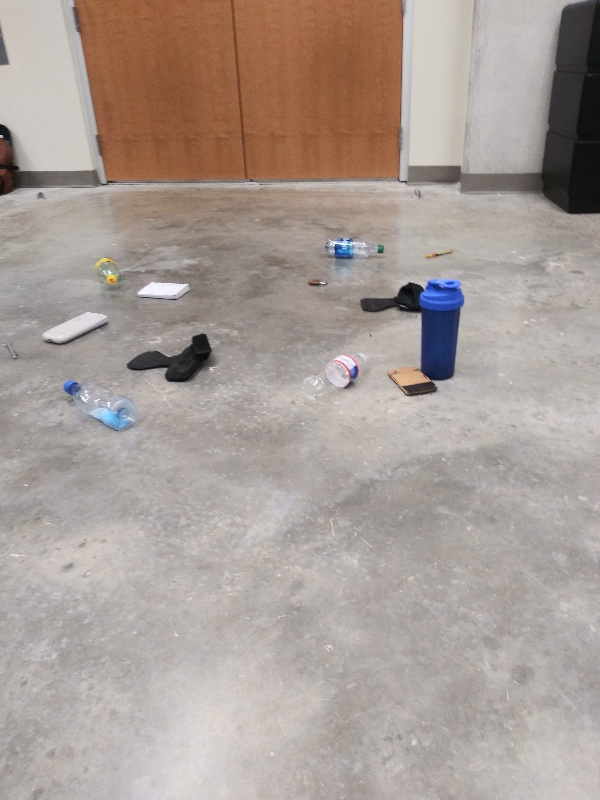bottle: (61, 373, 141, 435), (299, 344, 375, 406), (320, 236, 387, 265), (87, 250, 123, 288)
